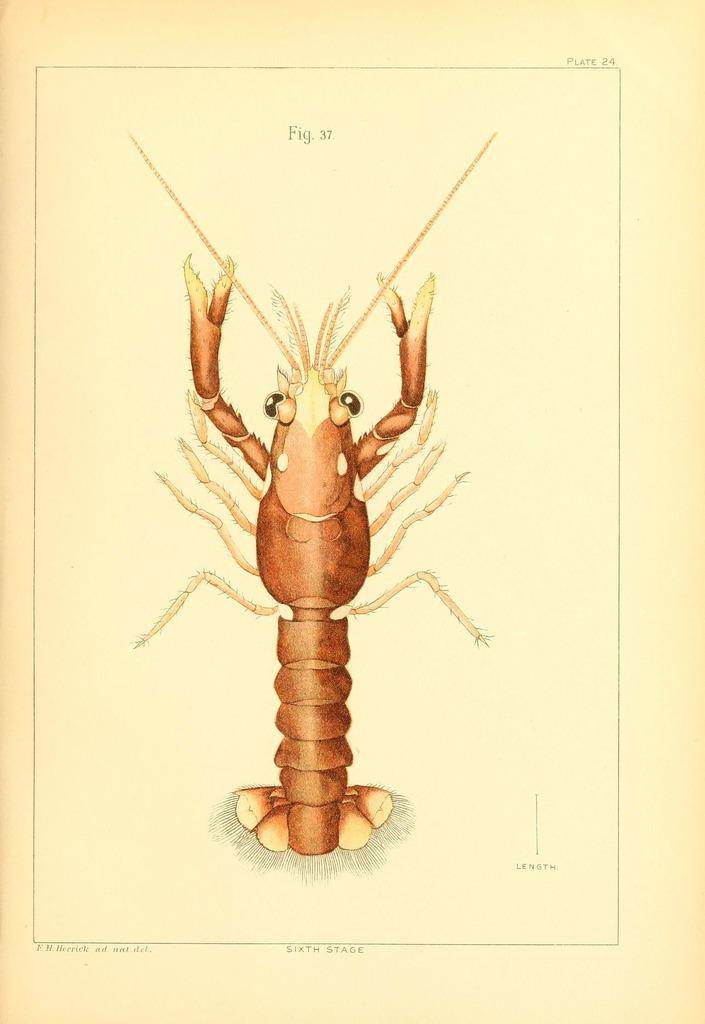Lobster: (131, 131, 498, 886)
